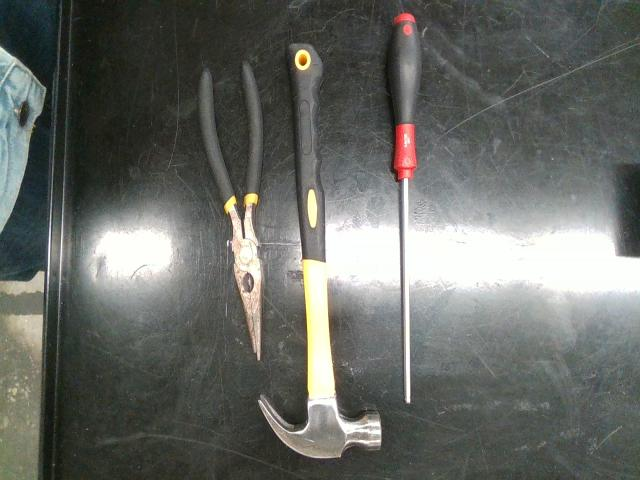Hammer: (259, 43, 381, 458)
Needle-nose pliers: (199, 62, 264, 359)
Screwdriver: (388, 13, 421, 403)
